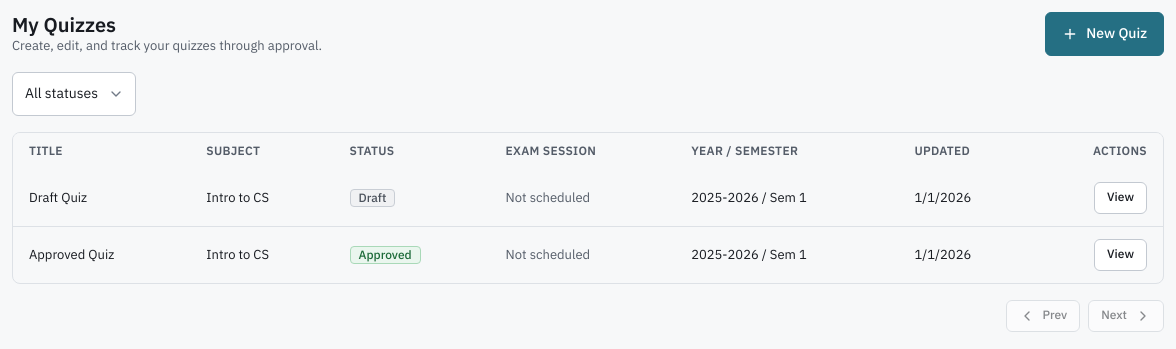
it: Quiz list › loads quizzes and filters by status
expect the text "Draft Quiz" is shown: met, box [13,170,190,226]
expect the text "Approved Quiz" is shown: met, box [13,226,190,283]
Select "Draft" in the dropdown named "Filter by status": (74, 94) [12,72,136,116]
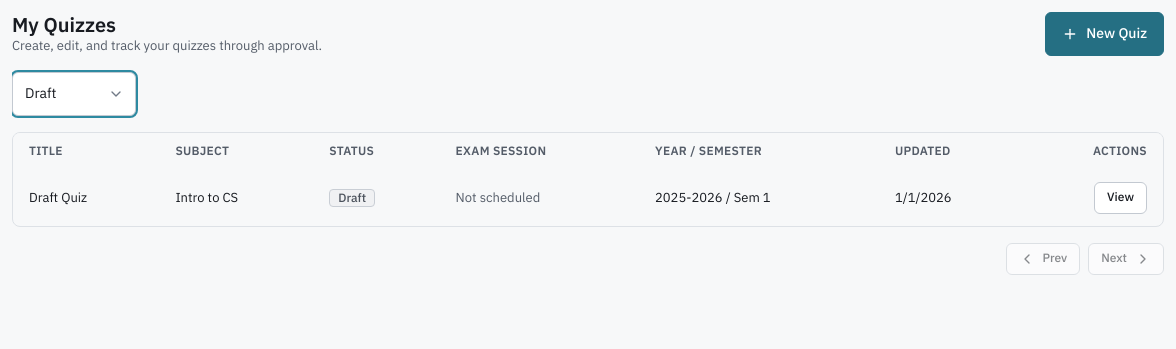
expect the text "Draft Quiz" is shown: met, box [13,170,159,226]
expect the text "Approved Quiz" is gone: met
